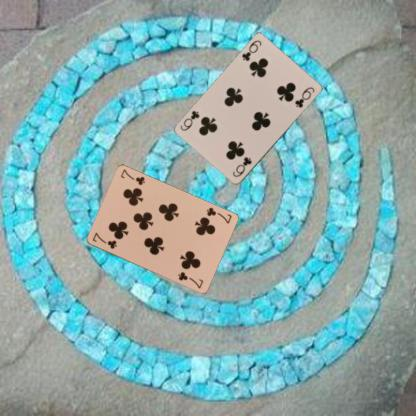6c: (239, 38, 263, 62), (230, 154, 253, 179)
7c: (203, 204, 233, 224), (89, 230, 118, 250)
